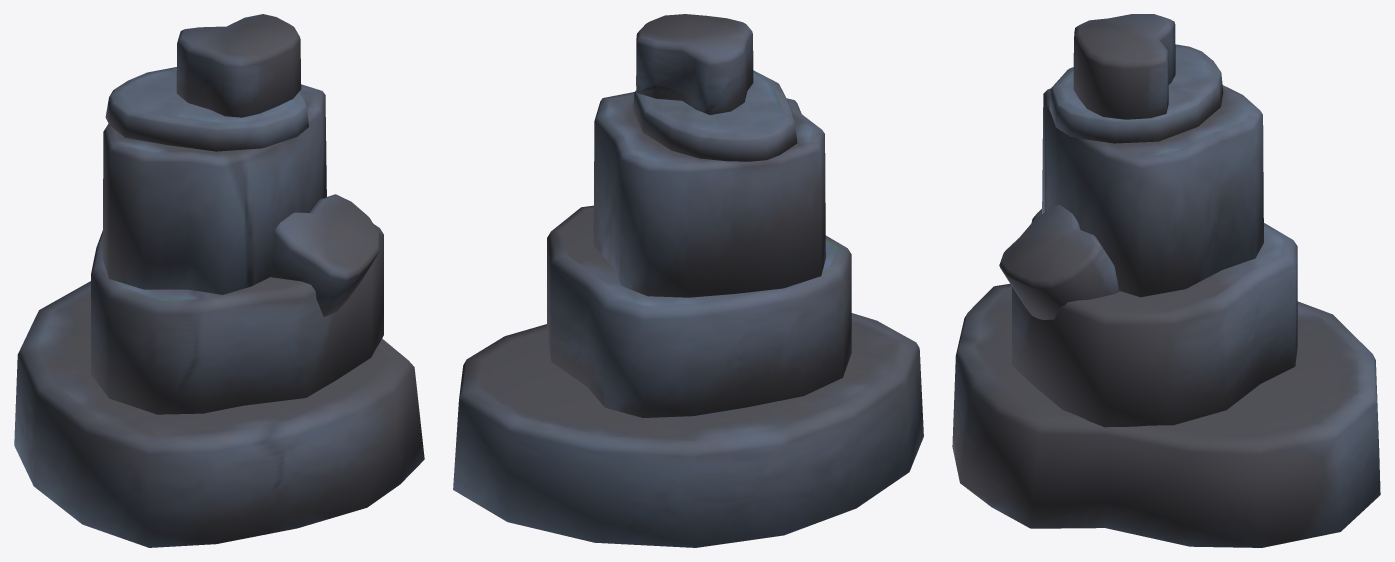
Rendered from rock_4.fbx.
The picture shows the model from 3 angles, left to right: view 1: azimuth 30°, elevation 25°; view 2: azimuth 150°, elevation 25°; view 3: azimuth 270°, elevation 25°; orthographic projection. The views are drawn at different scales.
Parts seen in each view (by area): view 1: rock_4; view 2: rock_4; view 3: rock_4.
Boxes of the visible parts, x1,y1,x2,y2 form: rock_4: (14,14,424,547); rock_4: (453,14,923,547); rock_4: (952,14,1380,547).
Size of the model in its own units: 89.97 by 100 by 91.23.
